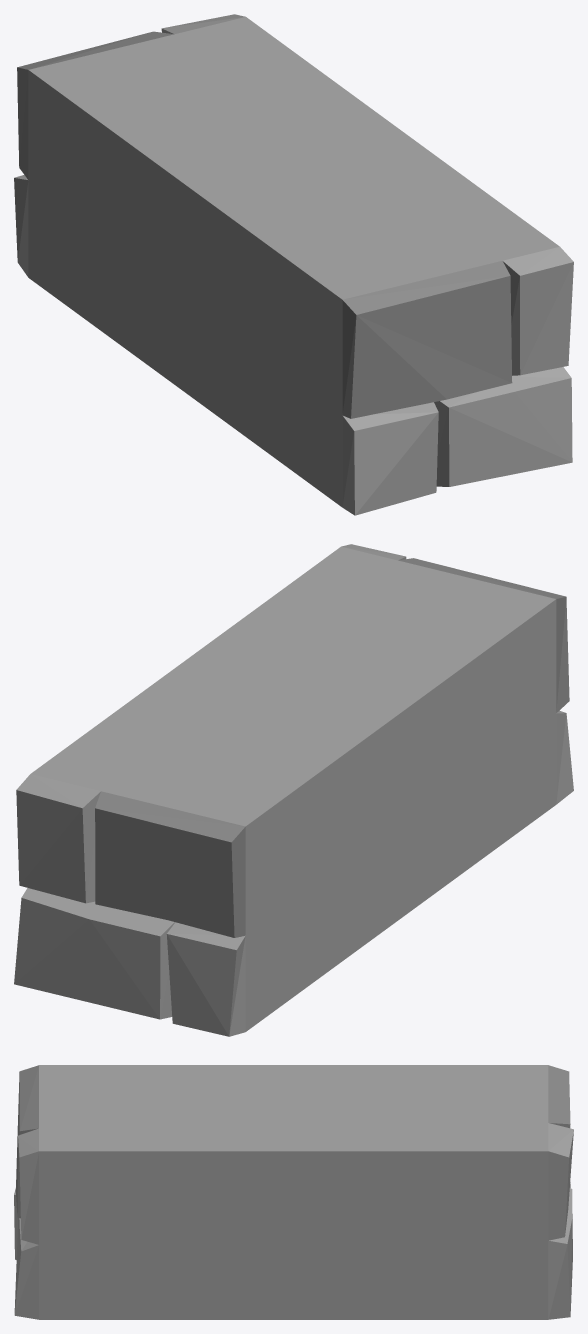
Rendered from _STAIRS_2_01.fbx.
3 views of the same model, one above another, from view 1: azimuth 30°, elevation 25°; view 2: azimuth 150°, elevation 25°; view 3: azimuth 270°, elevation 25° (orthographic). The views are drawn at different scales.
Visible parts, largest first — view 1: STAIRS_2_01; view 2: STAIRS_2_01; view 3: STAIRS_2_01.
Boxes of the visible parts, x1,y1,x2,y2 form: STAIRS_2_01: [14, 14, 573, 515]; STAIRS_2_01: [14, 544, 573, 1036]; STAIRS_2_01: [14, 1065, 573, 1319].
Bounding box in the file's own units: 82.07 × 73.06 × 220.
